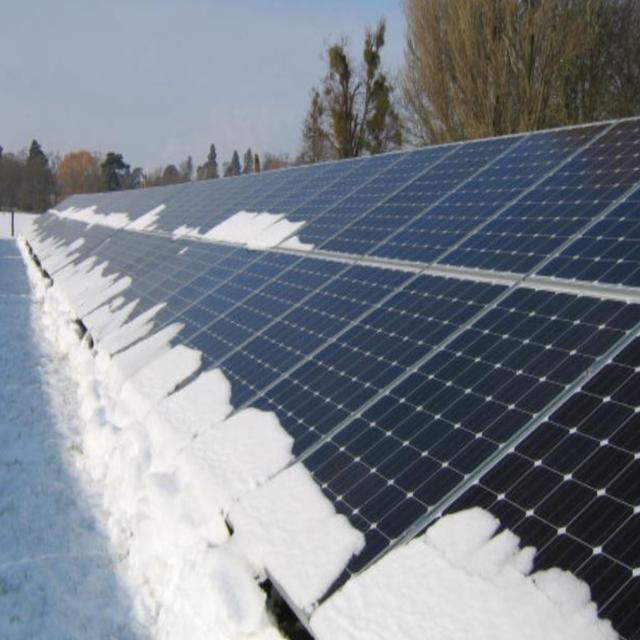snow covered: (51, 194, 631, 639)
